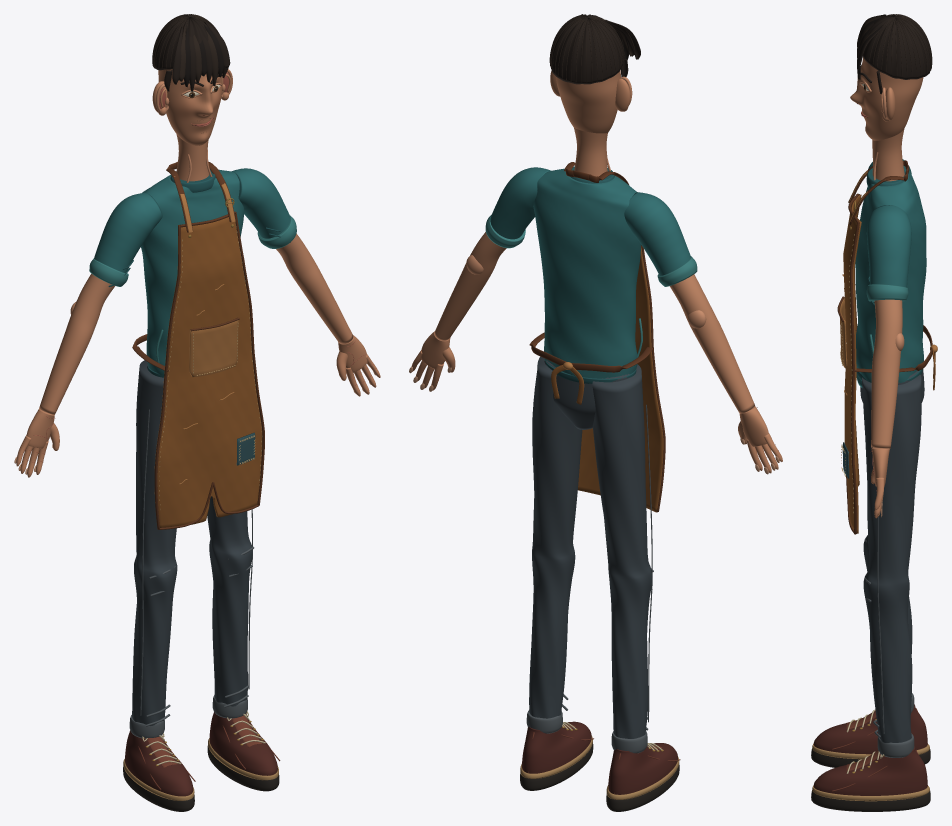
3 views of the same model, side by side, from view 1: azimuth 30°, elevation 25°; view 2: azimuth 150°, elevation 25°; view 3: azimuth 270°, elevation 25° (orthographic). The views are drawn at different scales.
Visible parts, largest first — view 1: Apron / solid worn leather bib and split skirt, R tapered trouser leg, L tapered trouser leg, Torso / teal cotton jersey, R arm / long forearm, R shirt sleeve, Head / sculpted youthful long face, L arm / long forearm, L shirt sleeve, R oxblood shoe upper, Apron chest pocket, L oxblood shoe upper (+8 smaller); view 2: Torso / teal cotton jersey, R tapered trouser leg, L tapered trouser leg, Apron / solid worn leather bib and split skirt, Hair / complete crown and nape, R arm / long forearm, R shirt sleeve, Head / sculpted youthful long face, R oxblood shoe upper, L arm / long forearm, L oxblood shoe upper, L shirt sleeve (+8 smaller); view 3: L tapered trouser leg, Torso / teal cotton jersey, L arm / long forearm, L oxblood shoe upper, Hair / complete crown and nape, L shirt sleeve, Apron / solid worn leather bib and split skirt, Head / sculpted youthful long face, R oxblood shoe upper, L shoe rubber sole, Hair / fine scalp ridges, Neck / narrow youthful anatomy (+14 smaller).
Part boxes in pixels (<box>): Apron / solid worn leather bib and split skirt: <box>154,217,262,527</box>; R tapered trouser leg: <box>132,360,177,725</box>; L tapered trouser leg: <box>207,496,252,706</box>; Torso / teal cotton jersey: <box>141,169,244,375</box>; R arm / long forearm: <box>39,274,114,414</box>; R shirt sleeve: <box>94,193,162,272</box>; Head / sculpted youthful long face: <box>158,69,222,145</box>; L arm / long forearm: <box>276,233,353,344</box>; L shirt sleeve: <box>232,168,290,238</box>; R oxblood shoe upper: <box>125,730,193,796</box>; Apron chest pocket: <box>189,317,238,376</box>; L oxblood shoe upper: <box>209,712,277,775</box>; Torso / teal cotton jersey: <box>533,168,641,378</box>; R tapered trouser leg: <box>592,364,652,738</box>; L tapered trouser leg: <box>529,356,582,718</box>; Apron / solid worn leather bib and split skirt: <box>578,246,663,512</box>; Hair / complete crown and nape: <box>550,14,624,84</box>; R arm / long forearm: <box>669,274,754,413</box>; R shirt sleeve: <box>624,192,690,275</box>; Head / sculpted youthful long face: <box>556,70,620,133</box>; R oxblood shoe upper: <box>608,743,677,794</box>; L arm / long forearm: <box>434,232,506,341</box>; L oxblood shoe upper: <box>522,721,591,773</box>; L shirt sleeve: <box>490,167,551,239</box>; L tapered trouser leg: <box>862,374,921,742</box>; Torso / teal cotton jersey: <box>855,166,926,387</box>; L arm / long forearm: <box>871,299,902,448</box>; L oxblood shoe upper: <box>813,746,927,795</box>; Hair / complete crown and nape: <box>863,14,931,79</box>; L shirt sleeve: <box>866,205,911,287</box>; Apron / solid worn leather bib and split skirt: <box>843,194,861,533</box>; Head / sculpted youthful long face: <box>850,57,923,140</box>; R oxblood shoe upper: <box>813,704,927,754</box>; L shoe rubber sole: <box>811,790,930,811</box>; Hair / fine scalp ridges: <box>869,14,932,77</box>; Neck / narrow youthful anatomy: <box>872,128,904,181</box>.
Size of the model in its own units: 0.9543 by 1.9 by 0.2846.
